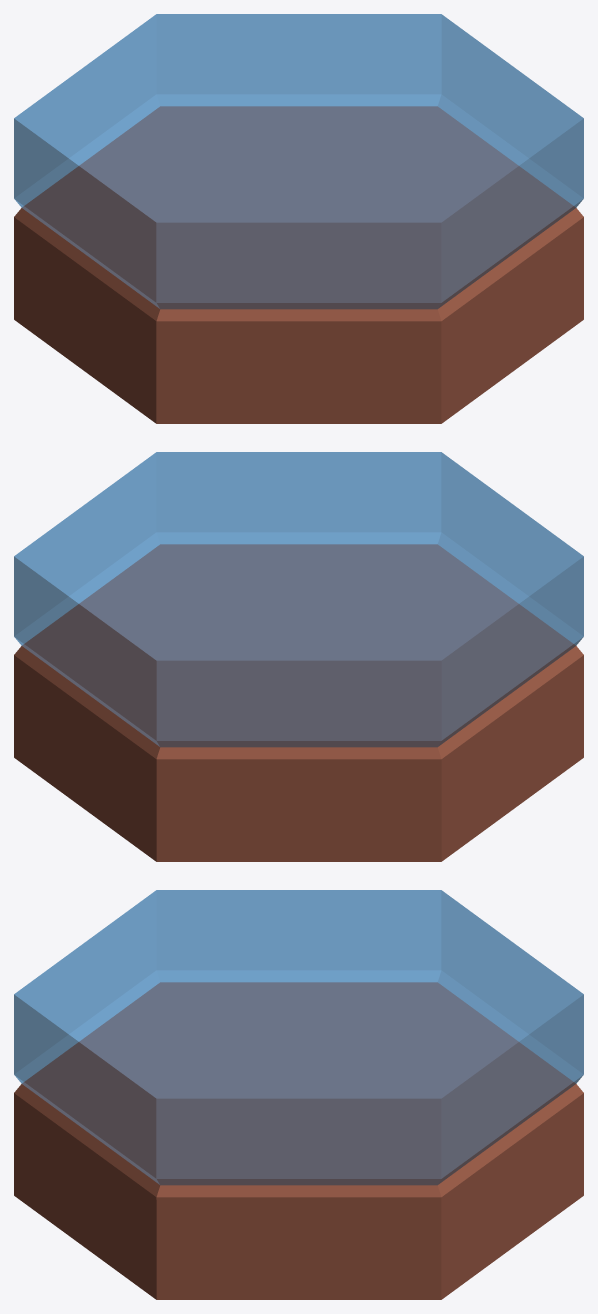
Rendered from snow_hex_water_details.fbx.
3 renders of one model, top to bottom at view 1: azimuth 30°, elevation 25°; view 2: azimuth 150°, elevation 25°; view 3: azimuth 270°, elevation 25°, orthographic.
Parts seen in each view (by area): view 1: hex_water_detail; view 2: hex_water_detail; view 3: hex_water_detail.
Boxes of the visible parts, x1=… form: hex_water_detail: x1=14, y1=14, x2=583, y2=423; hex_water_detail: x1=14, y1=452, x2=583, y2=861; hex_water_detail: x1=14, y1=890, x2=583, y2=1299.
Bounding box in the file's own units: 200 × 90 × 231.
